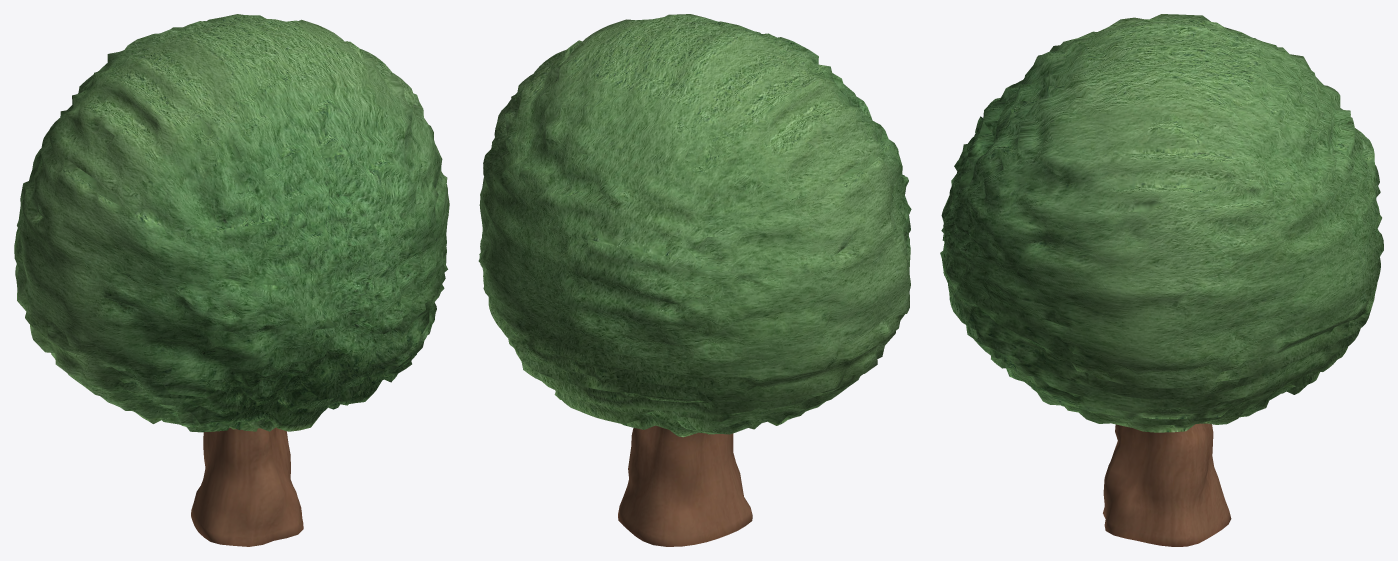
The model's file is tree.glb.
3 renders of one model, left to right at view 1: azimuth 30°, elevation 25°; view 2: azimuth 150°, elevation 25°; view 3: azimuth 270°, elevation 25°, orthographic.
Parts seen in each view (by area): view 1: tripo_7a7a626a_87dc_4457_9e87_917e6a86a8d3; view 2: tripo_7a7a626a_87dc_4457_9e87_917e6a86a8d3; view 3: tripo_7a7a626a_87dc_4457_9e87_917e6a86a8d3.
Part boxes in pixels (box(x1,y1,x2,y2)): tripo_7a7a626a_87dc_4457_9e87_917e6a86a8d3: box(14, 14, 449, 546); tripo_7a7a626a_87dc_4457_9e87_917e6a86a8d3: box(478, 14, 911, 546); tripo_7a7a626a_87dc_4457_9e87_917e6a86a8d3: box(940, 14, 1383, 546).
Size of the model in its own units: 0.8237 by 0.9995 by 0.8325.
1 material, 1 textured.
